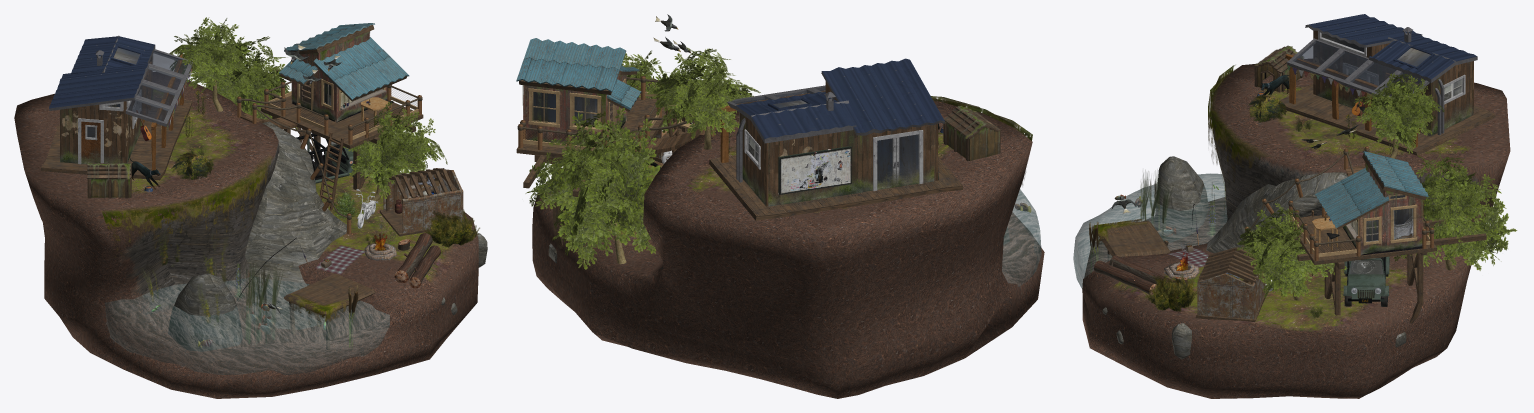
3 renders of one model, left to right at view 1: azimuth 30°, elevation 25°; view 2: azimuth 150°, elevation 25°; view 3: azimuth 270°, elevation 25°, orthographic. The views are drawn at different scales.
Parts seen in each view (by area): view 1: GroundPlane, Water, House, Cliff, Tree_Short, Rock, Tree_Top, pCube7, Tree_Tall, polySurface66, TreeHouse_Bottom, Dock (+26 smaller); view 2: GroundPlane, House, Tree_Tall, Tree_Top, pCube8, pCube2, Water, Dog_House_Building, polySurface133, polySurface134, polySurface144, TreeHouse_Bottom (+5 smaller); view 3: GroundPlane, House, Tree_Tall, Water, Tree_Short, Tree_Top, Cliff, Rock, polySurface66, pCube2, pCube7, Jeep (+22 smaller).
Part boxes in pixels (x1,y1,x2,y2): GroundPlane: (14,72,478,398); Water: (105,277,389,375); House: (41,35,193,180); Cliff: (245,121,346,329); Tree_Short: (343,101,447,200); Rock: (168,273,242,351); Tree_Top: (169,17,251,111); pCube7: (313,37,409,100); Tree_Tall: (203,36,297,129); polySurface66: (379,168,463,236); TreeHouse_Bottom: (261,95,423,148); Dock: (284,273,375,349); GroundPlane: (532,101,1044,398); House: (709,58,962,220); Tree_Tall: (525,107,660,269); Tree_Top: (647,47,760,149); pCube8: (516,38,626,91); pCube2: (523,75,626,144); Water: (1002,189,1041,286); Dog_House_Building: (943,106,1000,160); polySurface133: (847,125,934,191); polySurface134: (768,130,865,206); polySurface144: (523,85,605,147); TreeHouse_Bottom: (516,97,669,158); GroundPlane: (1082,59,1510,398); House: (1279,14,1495,155); Tree_Tall: (1393,153,1517,270); Water: (1073,173,1227,288); Tree_Short: (1237,202,1347,300); Tree_Top: (1354,73,1444,158); Cliff: (1206,172,1347,253); Rock: (1154,156,1208,242); polySurface66: (1195,257,1265,322); pCube2: (1347,167,1423,254); pCube7: (1315,167,1389,228); Jeep: (1343,256,1389,306).
Bounding box in the file's own units: 23.39 × 14.69 × 23.62.
